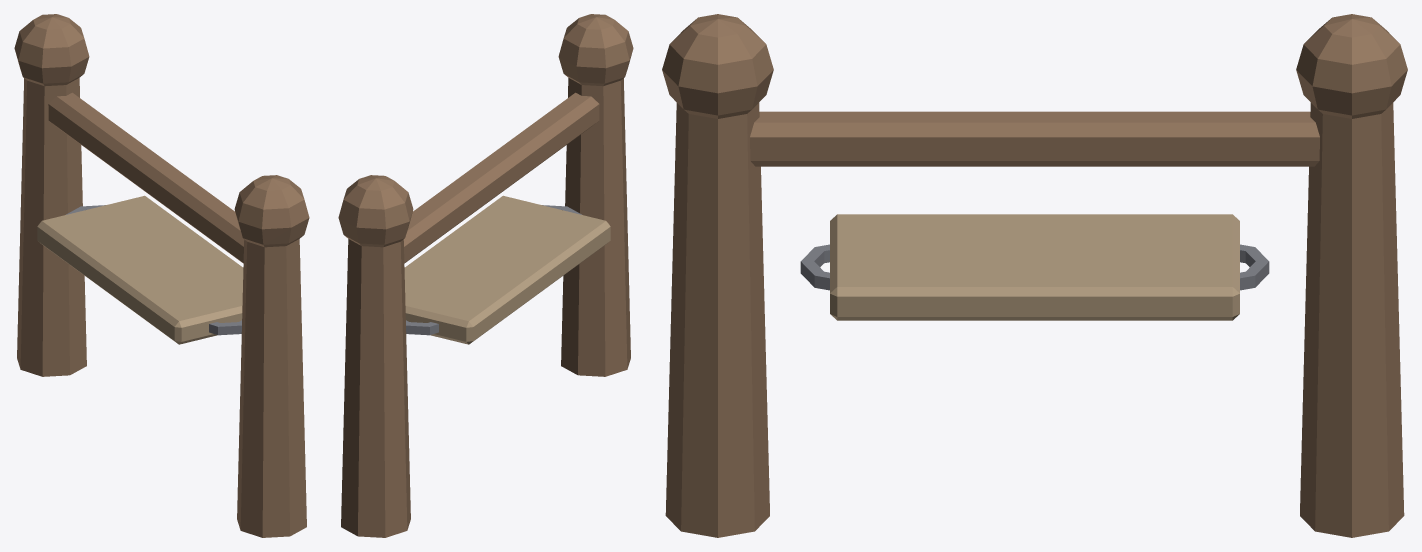
The model's file is town_hitching_post.glb.
3 renders of one model, left to right at view 1: azimuth 30°, elevation 25°; view 2: azimuth 150°, elevation 25°; view 3: azimuth 270°, elevation 25°, orthographic. The views are drawn at different scales.
Visible parts, largest first — view 1: world; view 2: world; view 3: world.
Boxes of the visible parts, <box> form: world: <box>14,14,309,537</box>; world: <box>338,14,633,537</box>; world: <box>662,14,1407,537</box>.
Bounding box in the file's own units: 0.5 × 1.47 × 2.
